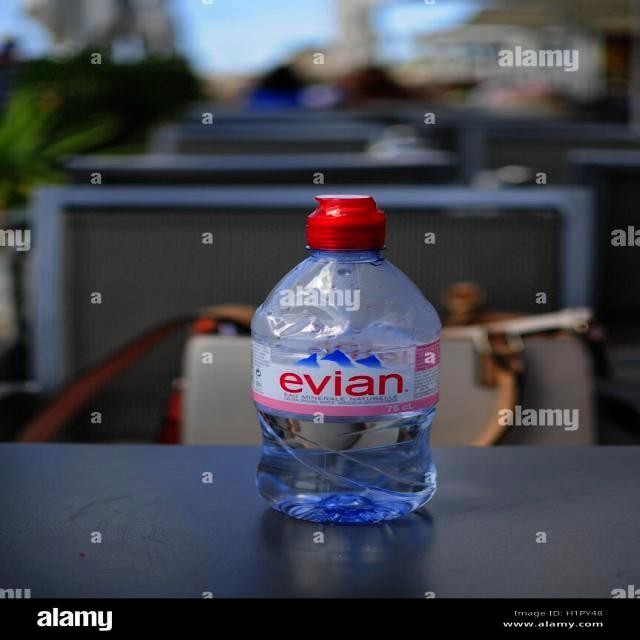bottle: (250, 195, 443, 523)
